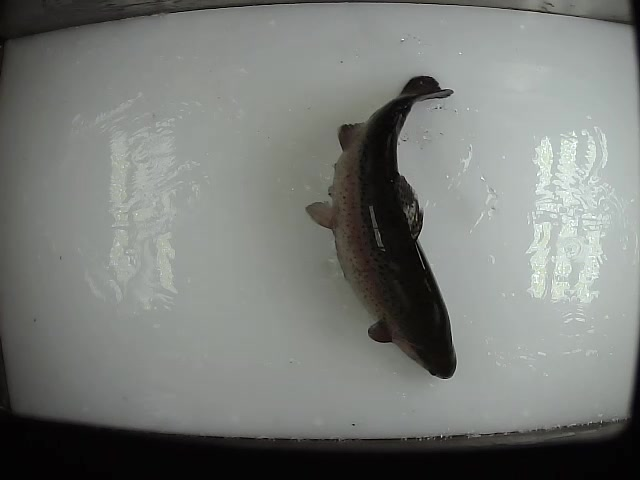fish: (306, 73, 460, 385)
